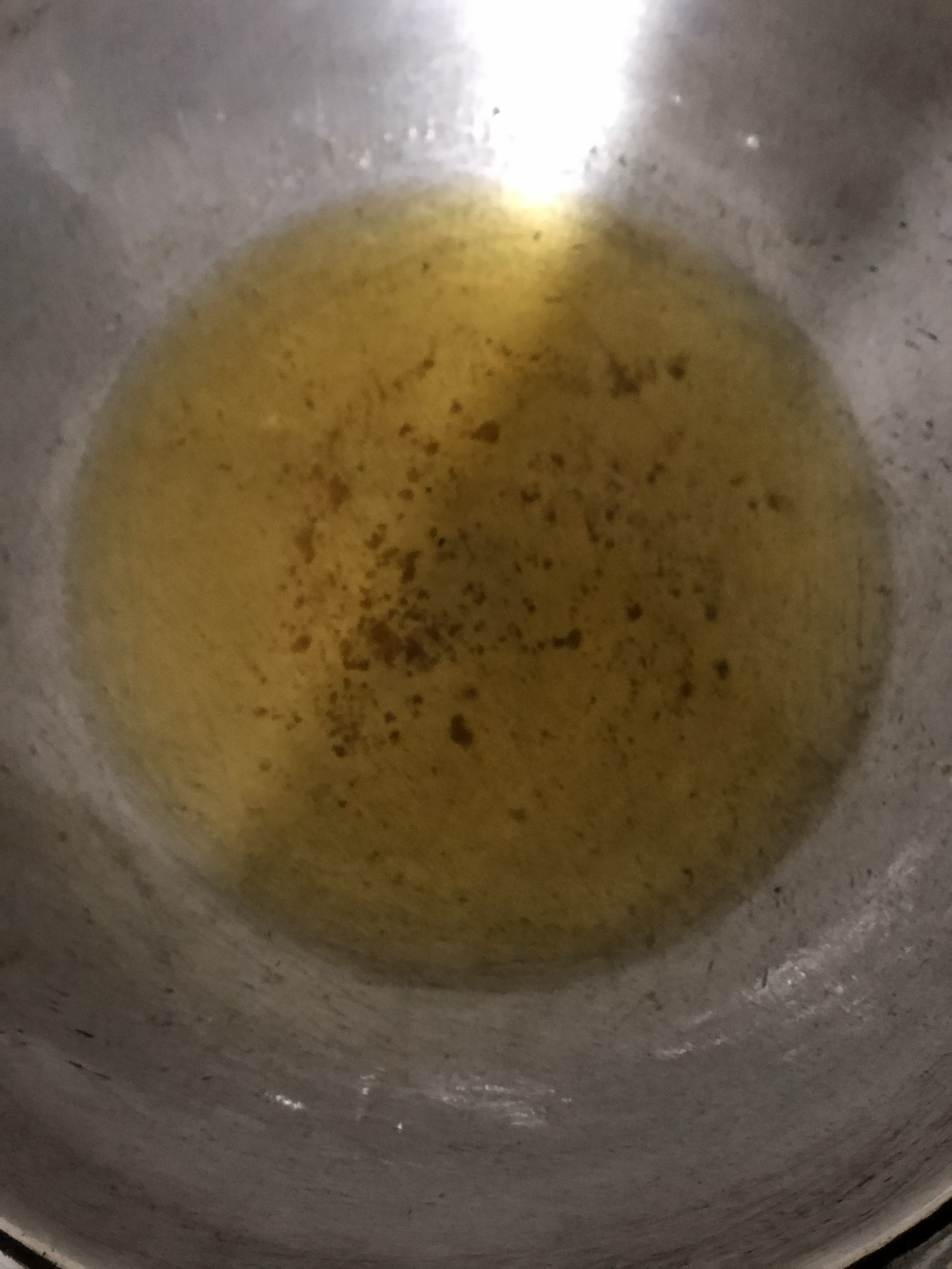reusable: (76, 189, 885, 982)
